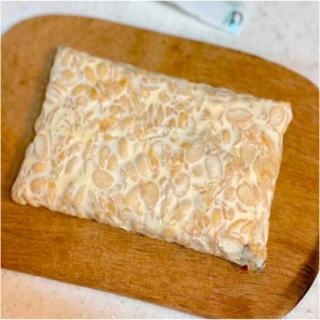Tempe: (10, 44, 294, 273)
